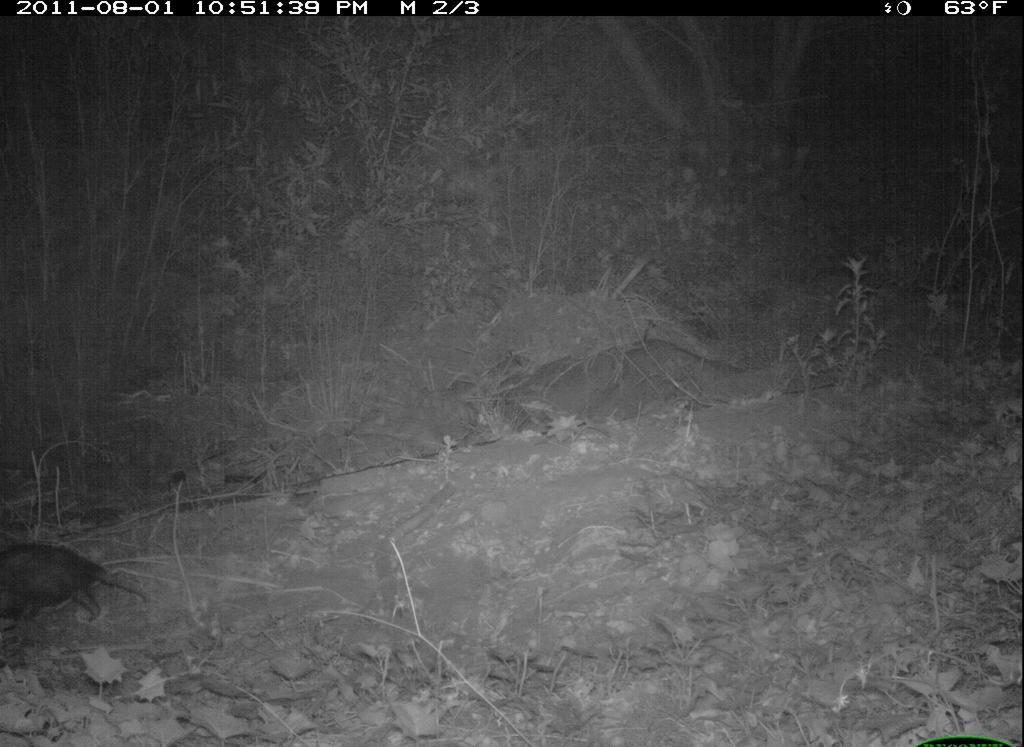opossum: (2, 541, 157, 648)
